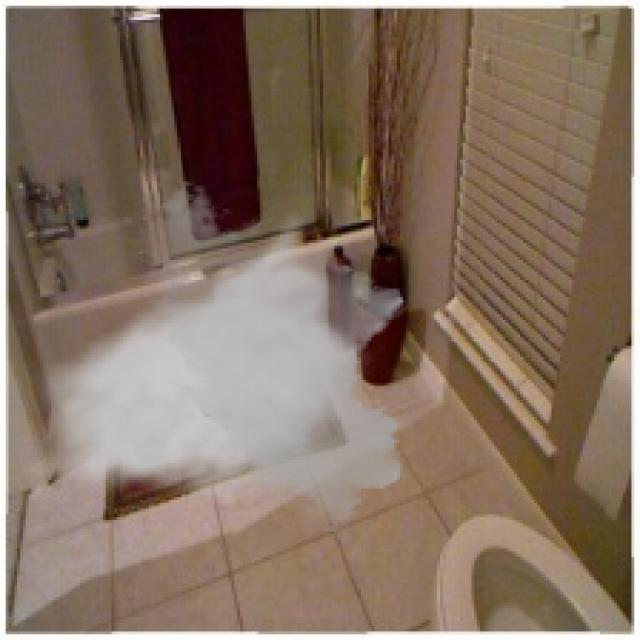smoke: (26, 177, 414, 534)
